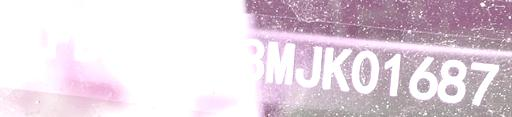letter: (321, 45, 353, 94), (435, 58, 469, 103), (468, 60, 500, 107), (264, 37, 296, 84), (406, 54, 438, 99), (127, 23, 157, 70), (45, 15, 75, 60), (72, 19, 102, 64), (294, 43, 324, 88), (350, 49, 380, 94), (19, 11, 47, 58), (100, 20, 128, 67), (210, 34, 240, 77), (155, 28, 183, 73), (182, 30, 210, 75), (237, 37, 265, 80), (383, 50, 403, 97)
